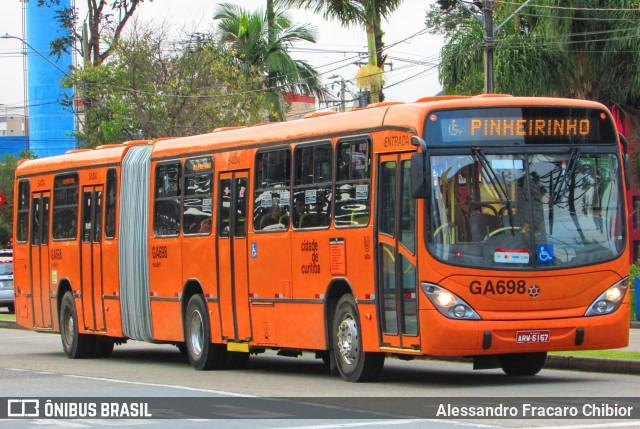PINHEIRINHO: (465, 113, 592, 138)
